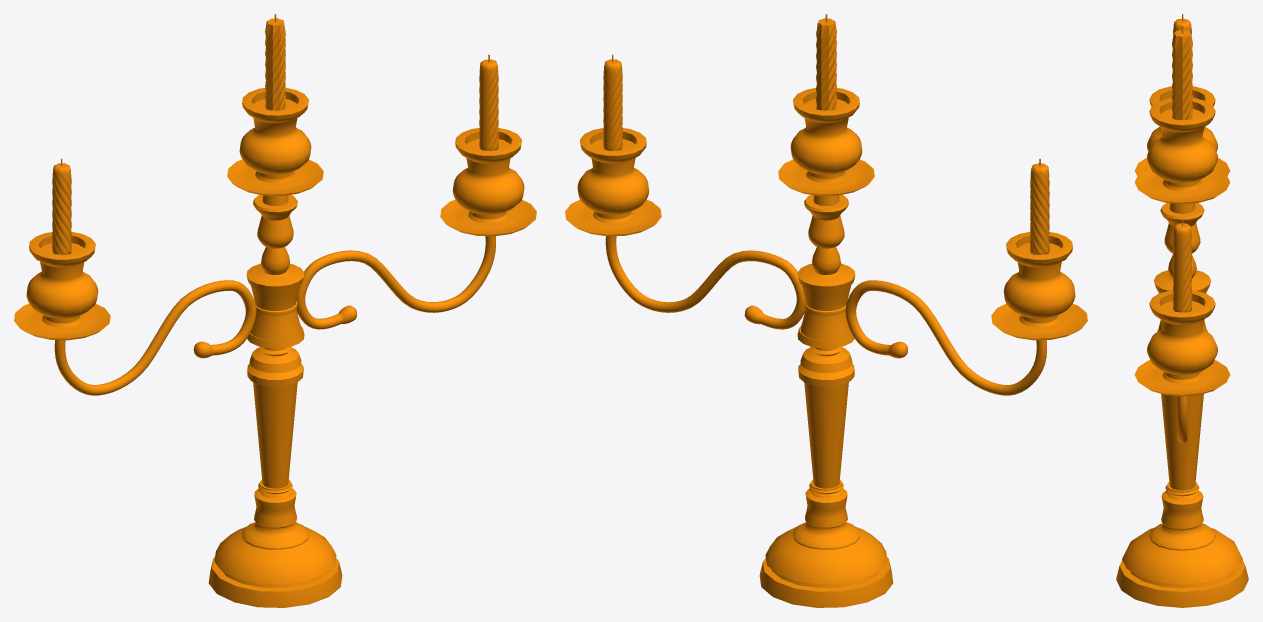
File: candlestick.fbx
3 views of the same model, side by side, from view 1: azimuth 30°, elevation 25°; view 2: azimuth 150°, elevation 25°; view 3: azimuth 270°, elevation 25° (orthographic). The views are drawn at different scales.
Visible parts, largest first — view 1: Cylinder007; view 2: Cylinder007; view 3: Cylinder007.
Part boxes in pixels (<box>): Cylinder007: <box>14,14,536,607</box>; Cylinder007: <box>565,14,1087,607</box>; Cylinder007: <box>1116,14,1248,607</box>.
Size of the model in its own units: 82.85 by 87.62 by 18.98.
